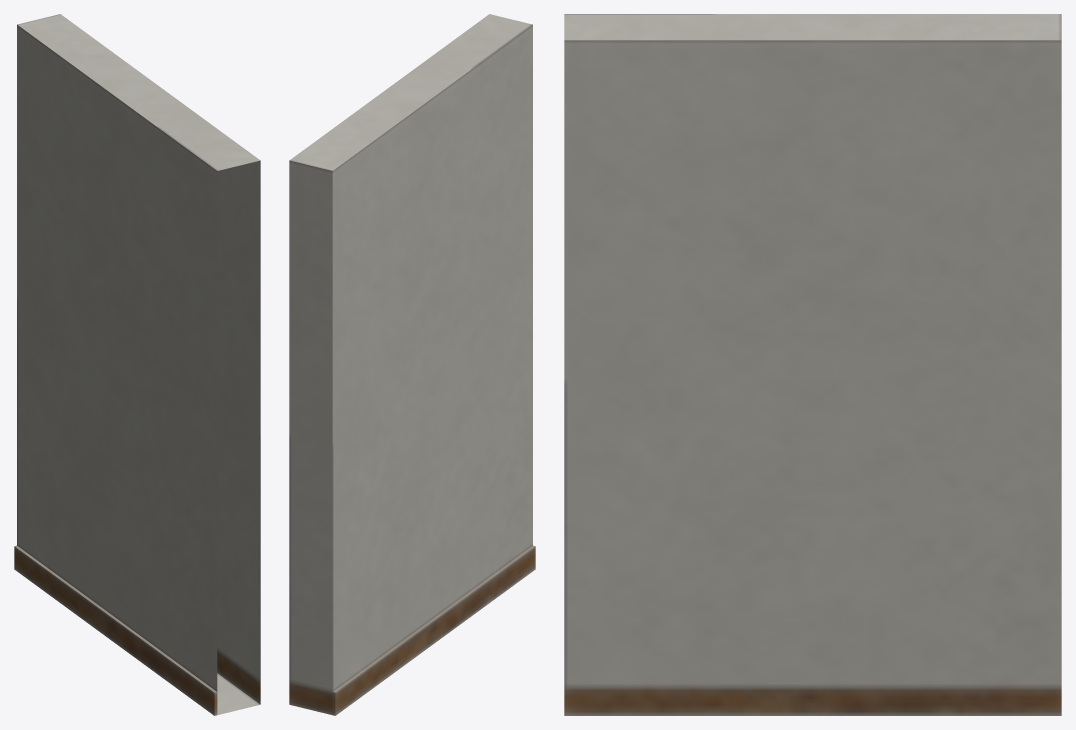
File: SM_Wall_Normal_01.fbx
3 views of the same model, side by side, from view 1: azimuth 30°, elevation 25°; view 2: azimuth 150°, elevation 25°; view 3: azimuth 270°, elevation 25° (orthographic). The views are drawn at different scales.
Visible parts, largest first — view 1: SM_Wall_Normal_01; view 2: SM_Wall_Normal_01; view 3: SM_Wall_Normal_01.
Boxes of the visible parts, bbox=[...] form: SM_Wall_Normal_01: bbox=[14, 14, 260, 715]; SM_Wall_Normal_01: bbox=[289, 14, 535, 715]; SM_Wall_Normal_01: bbox=[564, 14, 1061, 715].
Size of the model in its own units: 26.61 by 300 by 200.
